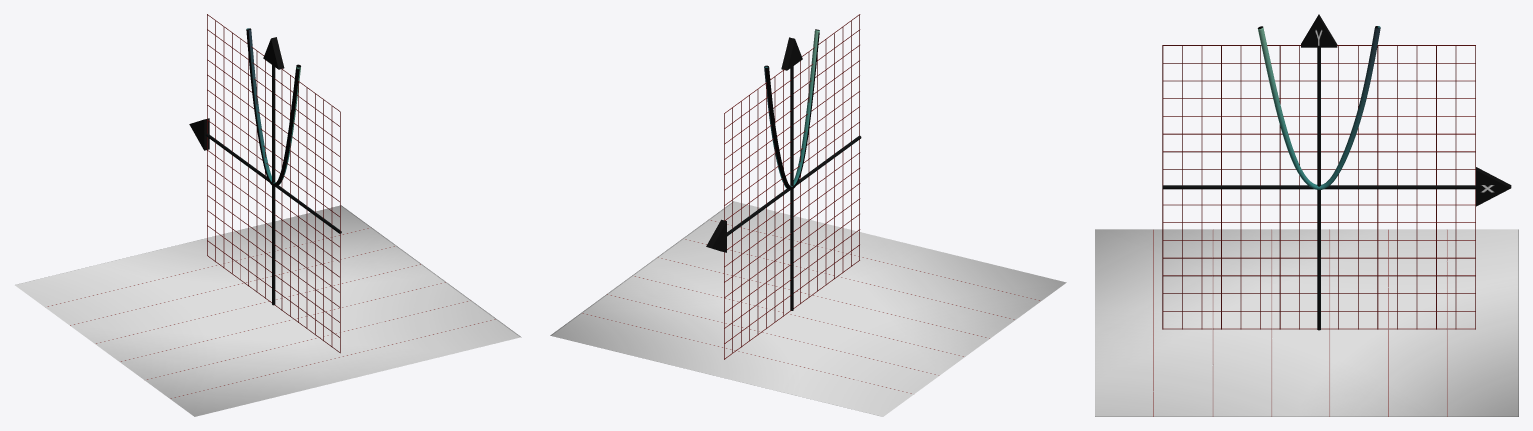
The model's file is y=x^2+k negativo.fbx.
The picture shows the model from 3 angles, left to right: view 1: azimuth 30°, elevation 25°; view 2: azimuth 150°, elevation 25°; view 3: azimuth 270°, elevation 25°; orthographic projection. The views are drawn at different scales.
Parts seen in each view (by area): view 1: parabola:plane:pPlane1, Mesh, parabola:pCylinder37, parabola:pCylinder36, parabola:pCylinder19, parabola:pCylinder23; view 2: parabola:plane:pPlane1, Mesh, parabola:pCylinder37, parabola:pCylinder36, parabola:pCylinder23, parabola:pCylinder22; view 3: parabola:plane:pPlane1, Mesh, parabola:pCylinder36, parabola:pCylinder37, parabola:nueva_flecha_x:polySurface1, parabola:Nueva_flecha_y:polySurface1, parabola:pCylinder14, parabola:pCylinder10, parabola:pCylinder17, parabola:pCylinder13, parabola:pCylinder7, parabola:pCylinder3 (+8 smaller).
Boxes of the visible parts, <box> form: parabola:plane:pPlane1: <box>15,205,521,416</box>; Mesh: <box>246,28,300,186</box>; parabola:pCylinder37: <box>272,65,275,305</box>; parabola:pCylinder36: <box>205,133,341,233</box>; parabola:pCylinder19: <box>331,106,332,346</box>; parabola:pCylinder23: <box>306,88,307,328</box>; parabola:plane:pPlane1: <box>550,201,1066,416</box>; Mesh: <box>764,29,819,189</box>; parabola:pCylinder37: <box>790,66,793,310</box>; parabola:pCylinder36: <box>727,136,861,236</box>; parabola:pCylinder23: <box>825,39,826,284</box>; parabola:pCylinder22: <box>842,27,843,272</box>; parabola:plane:pPlane1: <box>1095,229,1518,416</box>; Mesh: <box>1257,26,1380,189</box>; parabola:pCylinder36: <box>1162,185,1475,189</box>; parabola:pCylinder37: <box>1317,47,1320,330</box>; parabola:nueva_flecha_x:polySurface1: <box>1476,167,1511,206</box>; parabola:Nueva_flecha_y:polySurface1: <box>1301,14,1337,47</box>; parabola:pCylinder14: <box>1163,275,1475,276</box>; parabola:pCylinder10: <box>1162,204,1475,205</box>; parabola:pCylinder17: <box>1162,328,1475,329</box>; parabola:pCylinder13: <box>1162,257,1475,258</box>; parabola:pCylinder7: <box>1163,151,1475,152</box>; parabola:pCylinder3: <box>1163,80,1475,81</box>.
Size of the model in its own units: 56.75 by 44.29 by 54.19.
